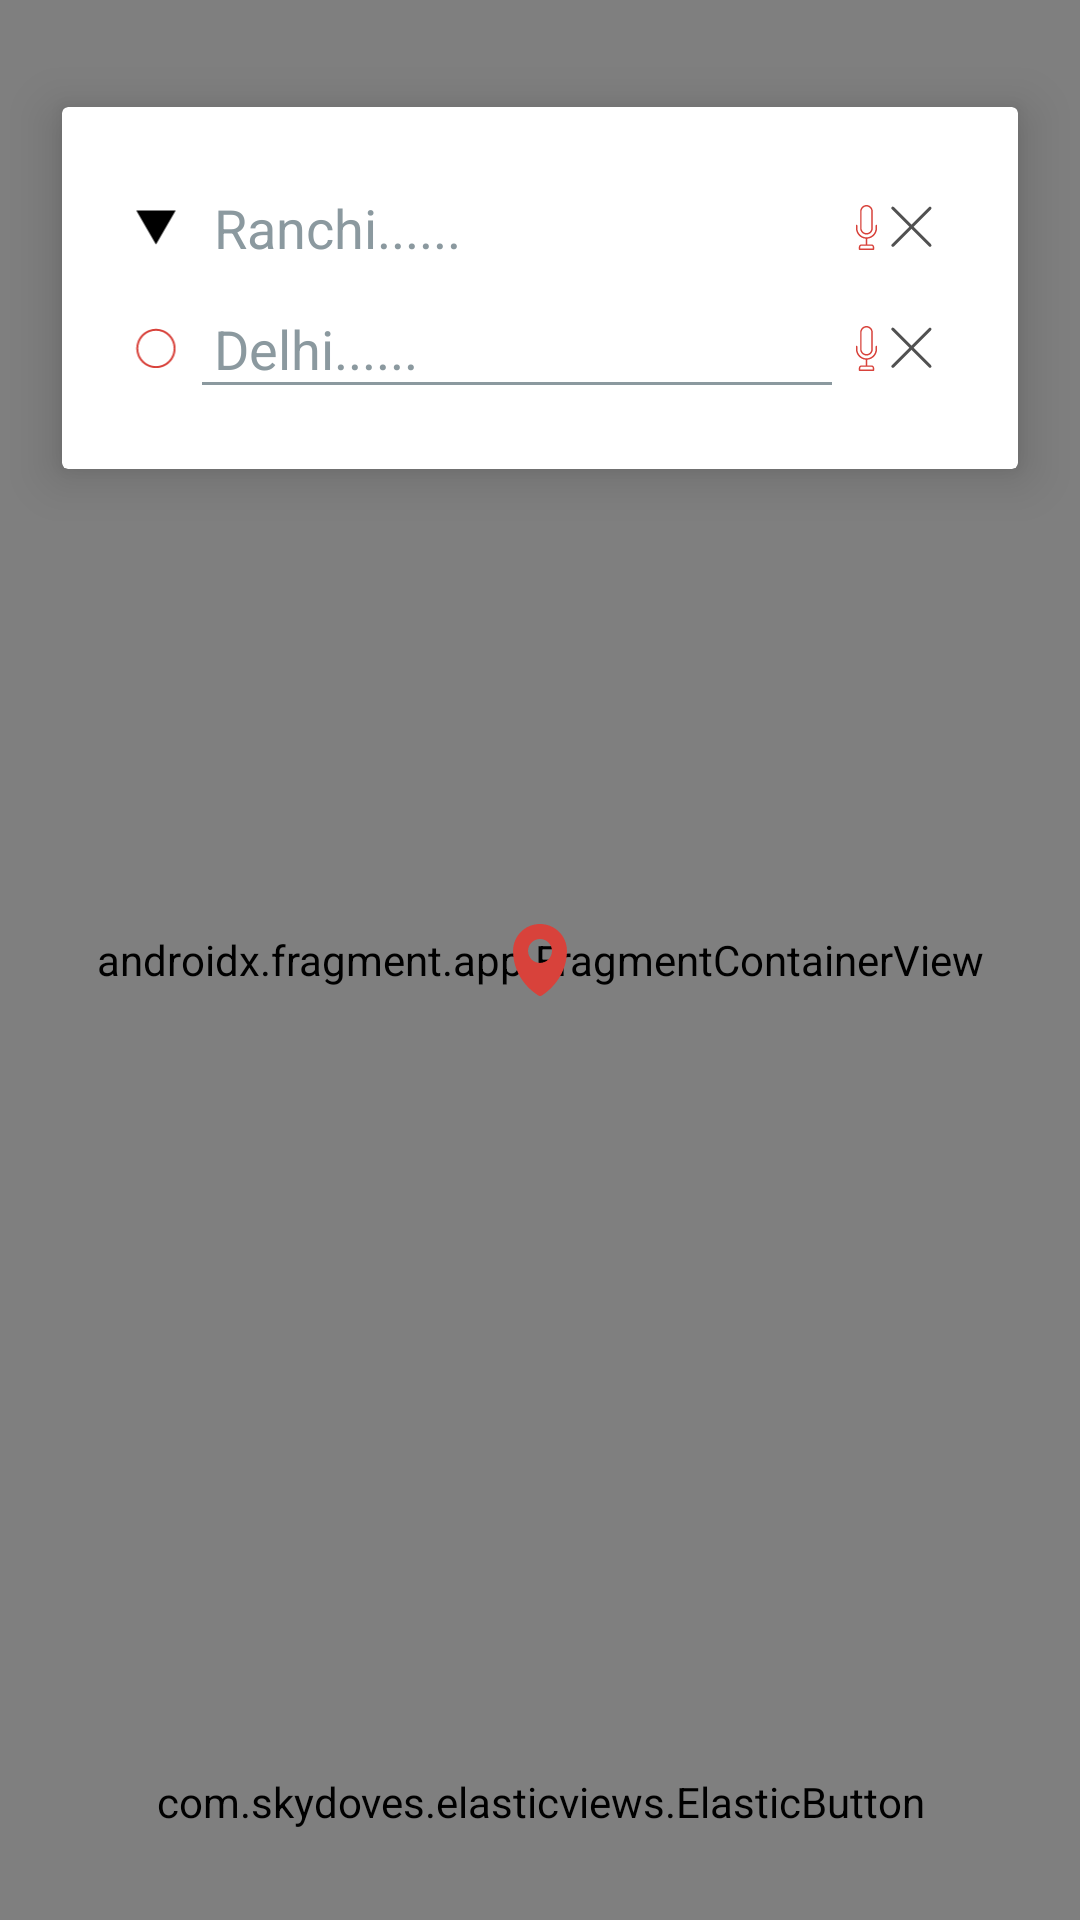

Locate icon controls on the screen. Image size 1080px x 1920px, boxes as box(x1, y1, x2, y2).
cross: box(891, 206, 932, 247), box(891, 327, 932, 368)
down arrow: box(136, 210, 176, 244)
mic: box(856, 205, 877, 250), box(856, 326, 877, 371)
pin: box(504, 924, 571, 996)
